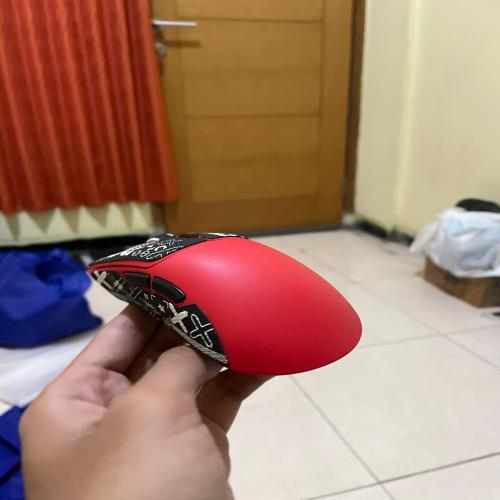mouse: (76, 222, 387, 382)
